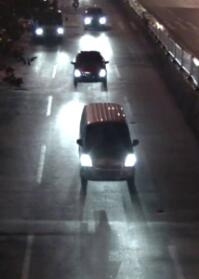car: (72, 100, 141, 192), (24, 1, 67, 47), (68, 48, 111, 89), (79, 4, 111, 33)
